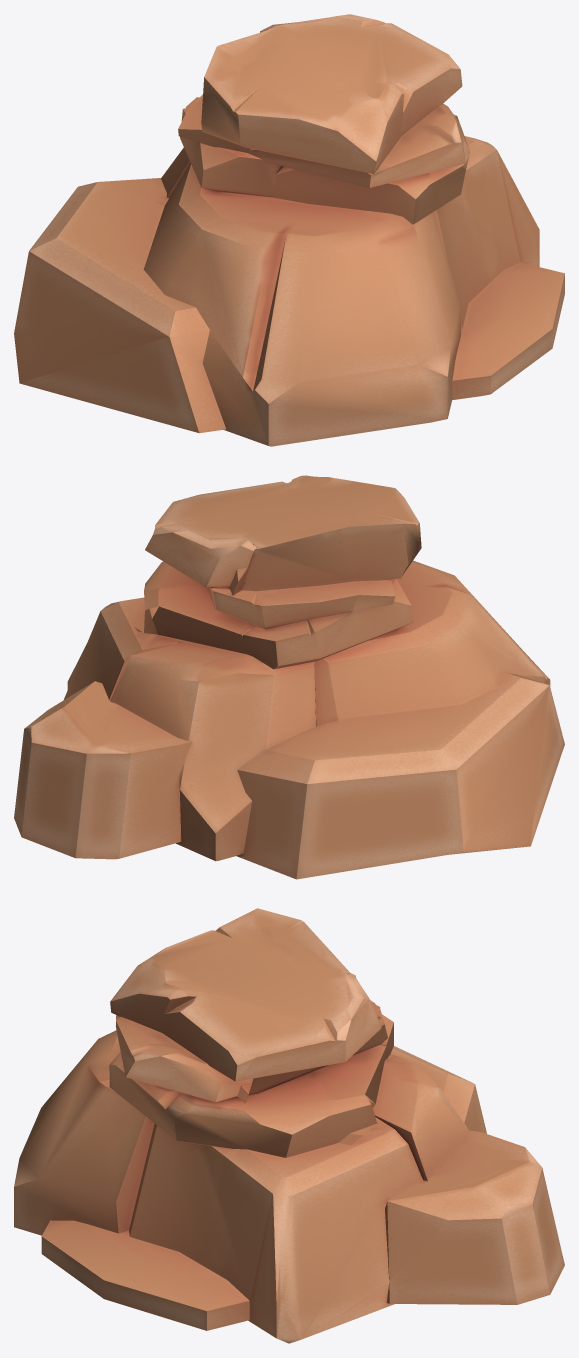
File: rock_13.fbx
The picture shows the model from 3 angles, top to bottom: view 1: azimuth 30°, elevation 25°; view 2: azimuth 150°, elevation 25°; view 3: azimuth 270°, elevation 25°; orthographic projection. The views are drawn at different scales.
Parts seen in each view (by area): view 1: Rock_13; view 2: Rock_13; view 3: Rock_13.
Boxes of the visible parts, x1,y1,x2,y2 form: Rock_13: (14, 14, 564, 446); Rock_13: (14, 475, 564, 879); Rock_13: (14, 908, 564, 1343).
Size of the model in its own units: 497 by 276 by 489.
1 material, 1 textured.
